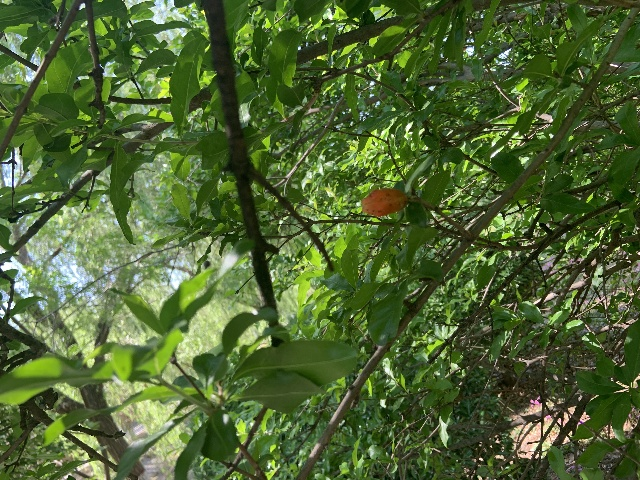bud: (361, 188, 407, 215)
